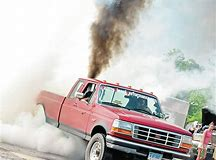smoke: (84, 1, 149, 76)
